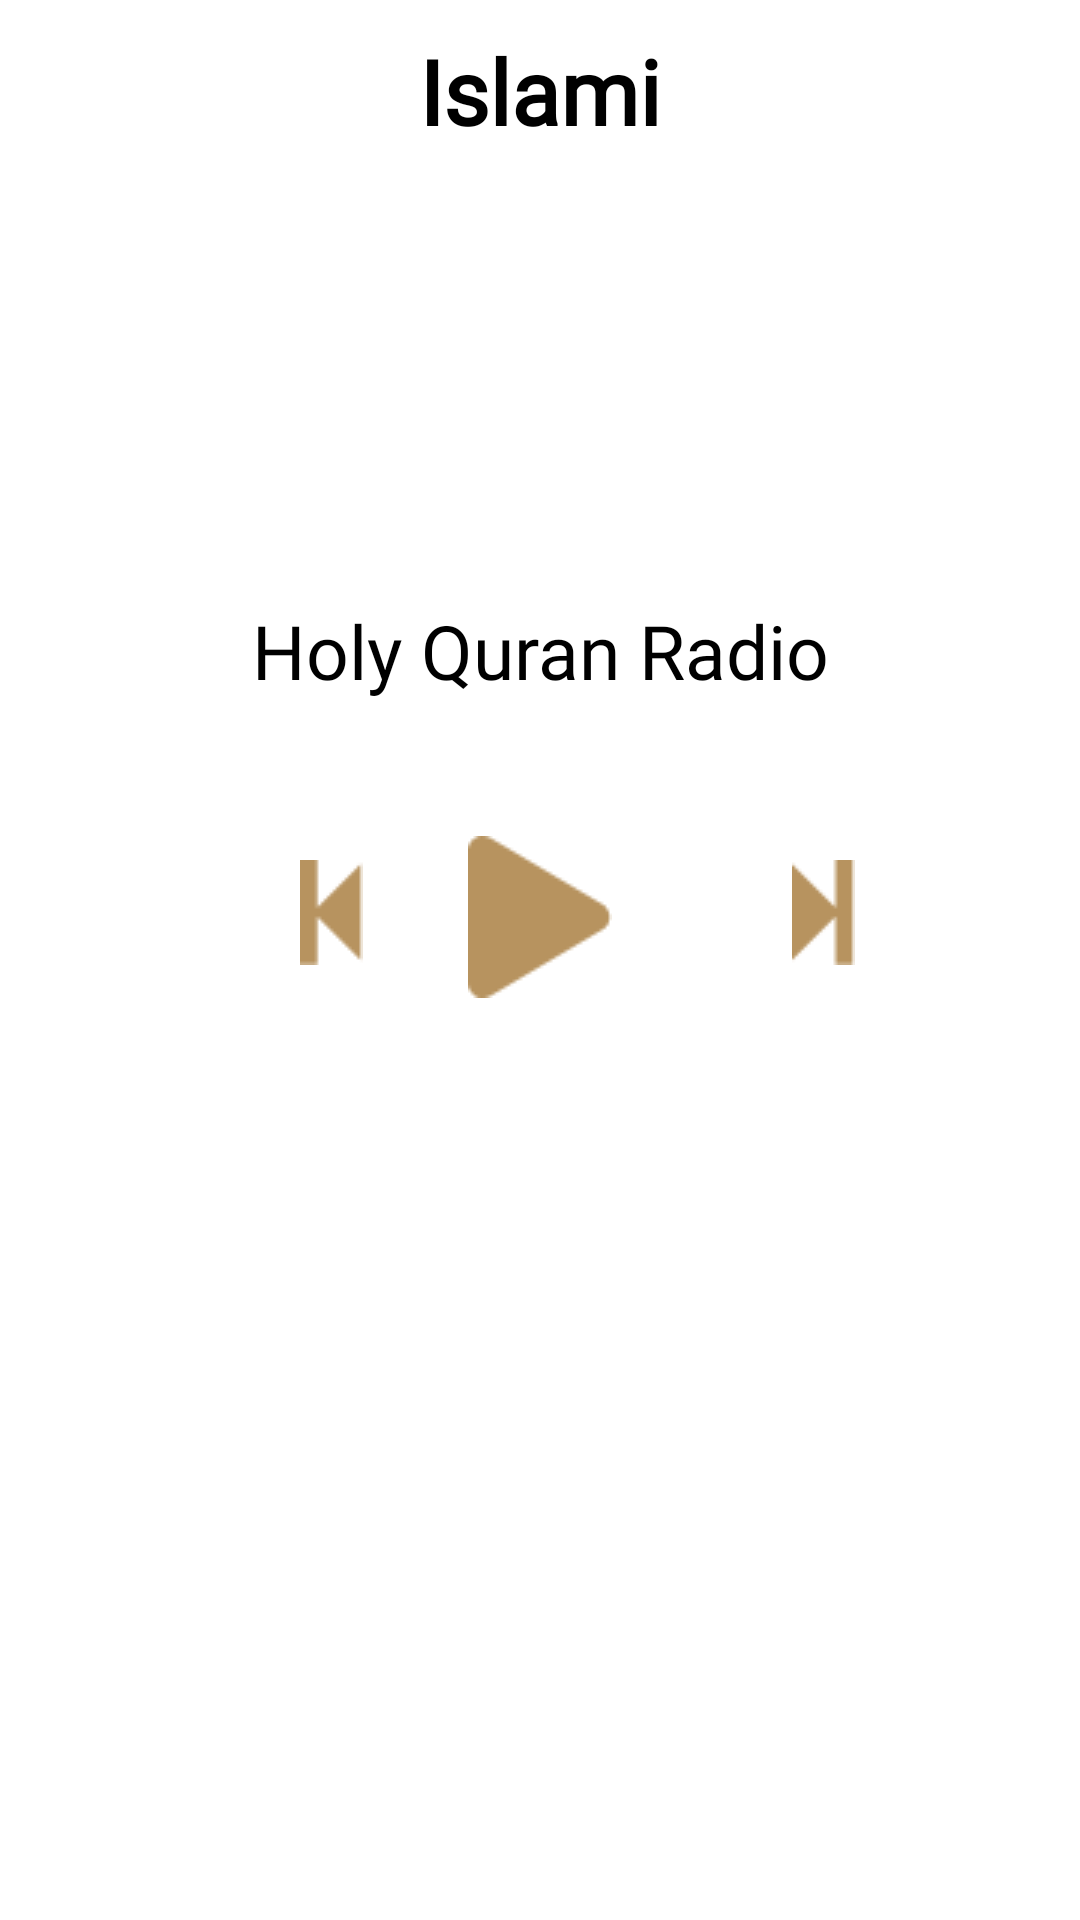

Icons on this 1080px×1920px Android screen, each with its box as (x1,y1,x2,y2):
next: (792,860,855,965)
play: (468,836,612,998)
previous: (300,860,363,965)
